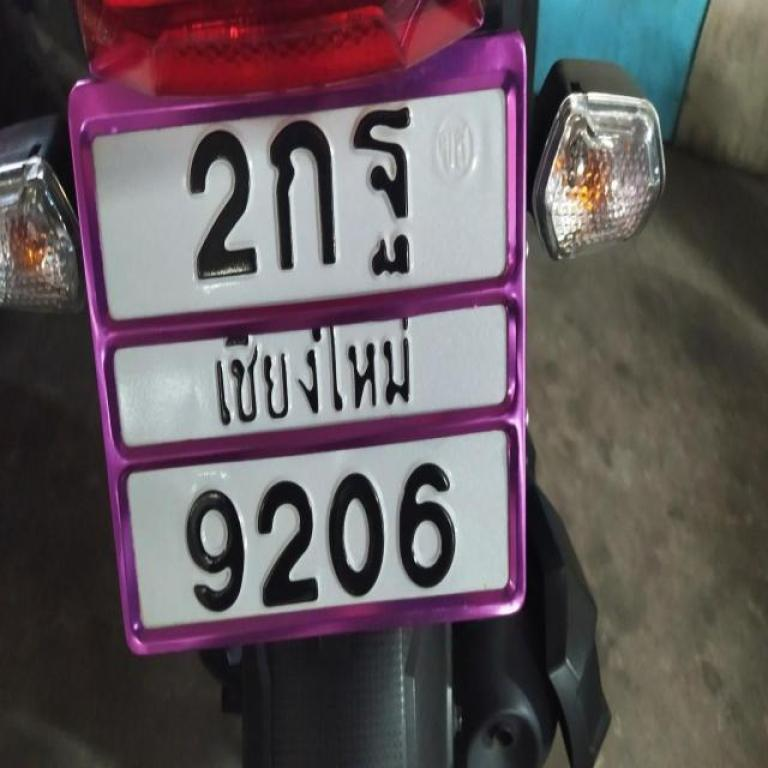license plate: (71, 32, 527, 653)
